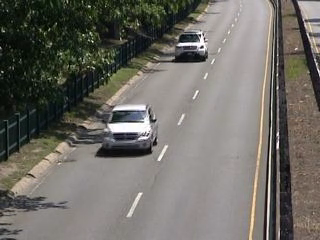car: (101, 101, 162, 156), (174, 28, 215, 66)
